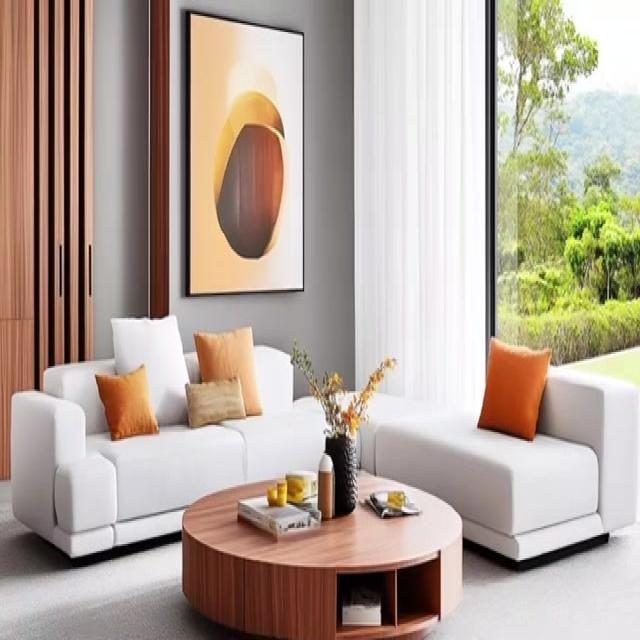door: (0, 0, 93, 478)
obstacle: (10, 341, 331, 560), (349, 364, 639, 570), (181, 468, 463, 638)
